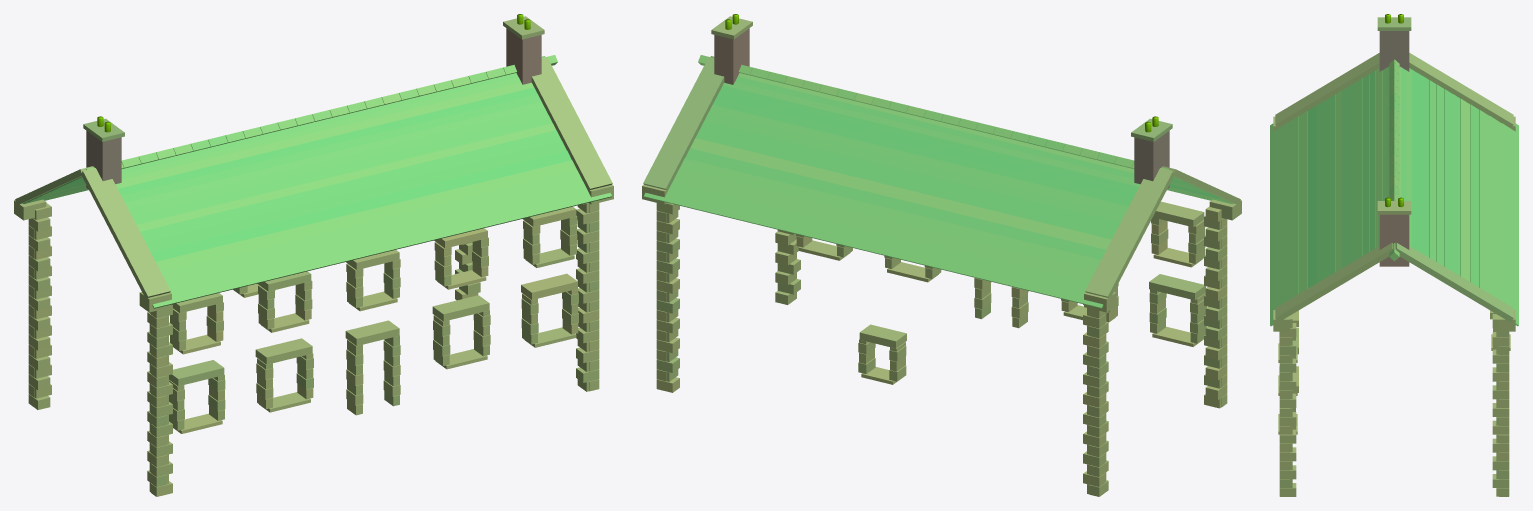
Rendered from SM_Bld_074_Stone.glb.
3 renders of one model, left to right at view 1: azimuth 30°, elevation 25°; view 2: azimuth 150°, elevation 25°; view 3: azimuth 270°, elevation 25°, orthographic. The views are drawn at different scales.
Parts seen in each view (by area): view 1: SM_Bld_074_Stone; view 2: SM_Bld_074_Stone; view 3: SM_Bld_074_Stone.
Boxes of the visible parts, <box> form: SM_Bld_074_Stone: <box>14,14,613,496</box>; SM_Bld_074_Stone: <box>642,14,1241,496</box>; SM_Bld_074_Stone: <box>1270,14,1518,496</box>.
Bounding box in the file's own units: 15 × 9.9 × 7.61.
